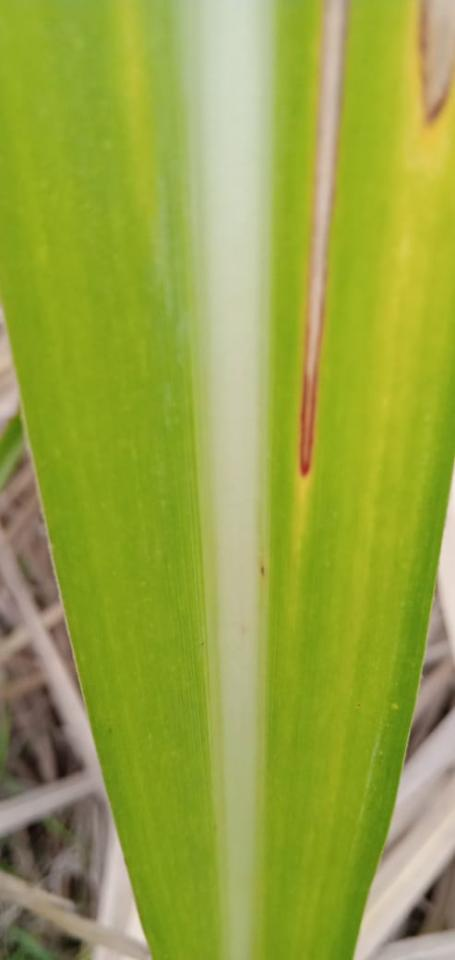RedRot: (299, 0, 349, 481), (421, 0, 454, 126)
Rust: (259, 565, 266, 578)
Yellow: (405, 0, 454, 175), (297, 467, 312, 547)
